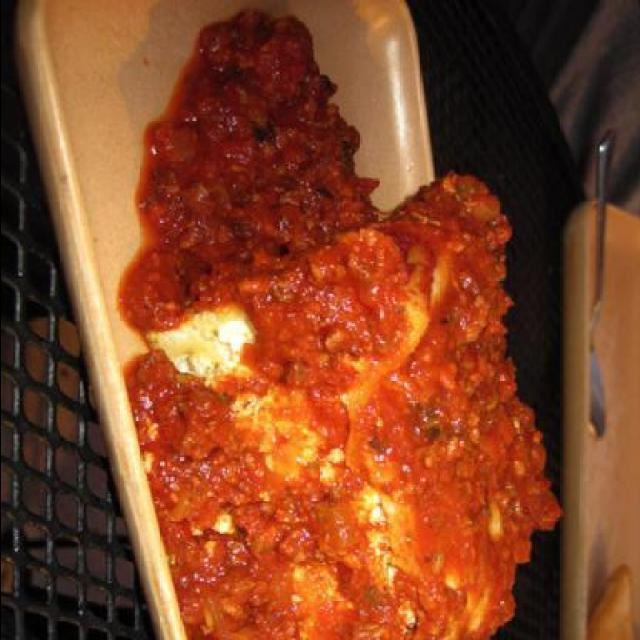Lasagna: (130, 164, 552, 636)
